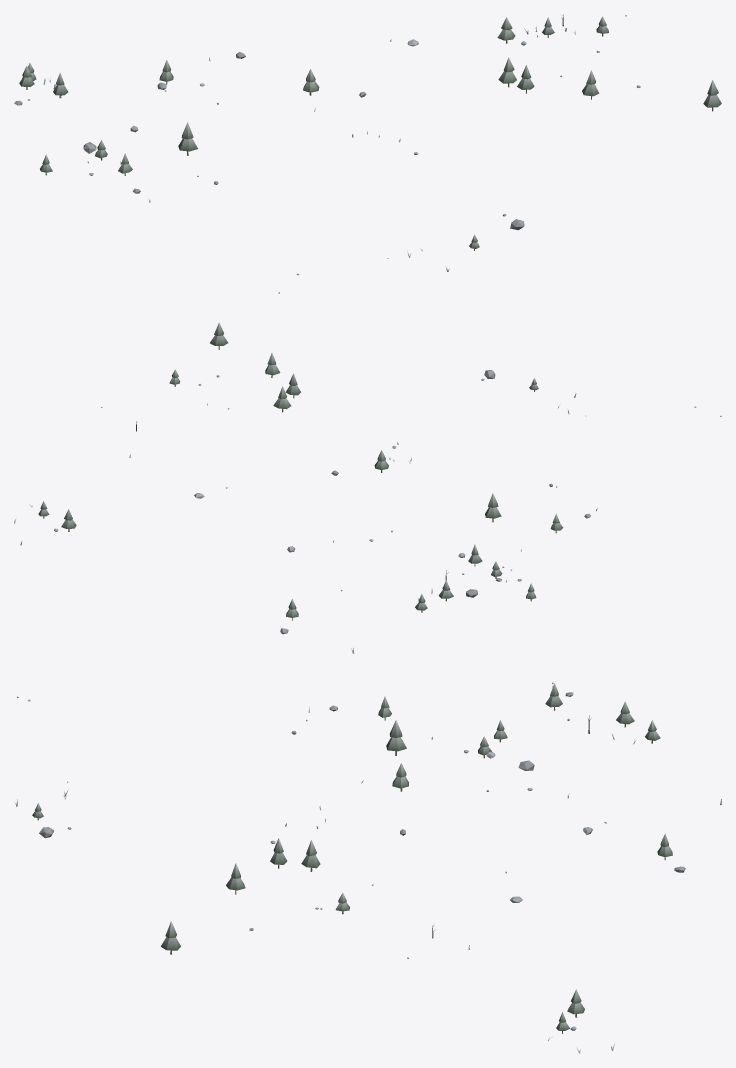
Rendered from frost_land_scatter_c20_09_lod1.glb.
3 renders of one model, top to bottom at view 1: azimuth 30°, elevation 25°; view 2: azimuth 150°, elevation 25°; view 3: azimuth 270°, elevation 25°, orthographic. The views are drawn at different scales.
Visible parts, largest first — view 1: frost_land_scatter_c20_09_lod1; view 2: frost_land_scatter_c20_09_lod1; view 3: frost_land_scatter_c20_09_lod1.
Boxes of the visible parts, x1,y1,x2,y2 form: frost_land_scatter_c20_09_lod1: [14, 14, 721, 293]; frost_land_scatter_c20_09_lod1: [14, 322, 721, 653]; frost_land_scatter_c20_09_lod1: [14, 682, 721, 1053].
Bounding box in the file's own units: 253 × 52.63 × 257.
